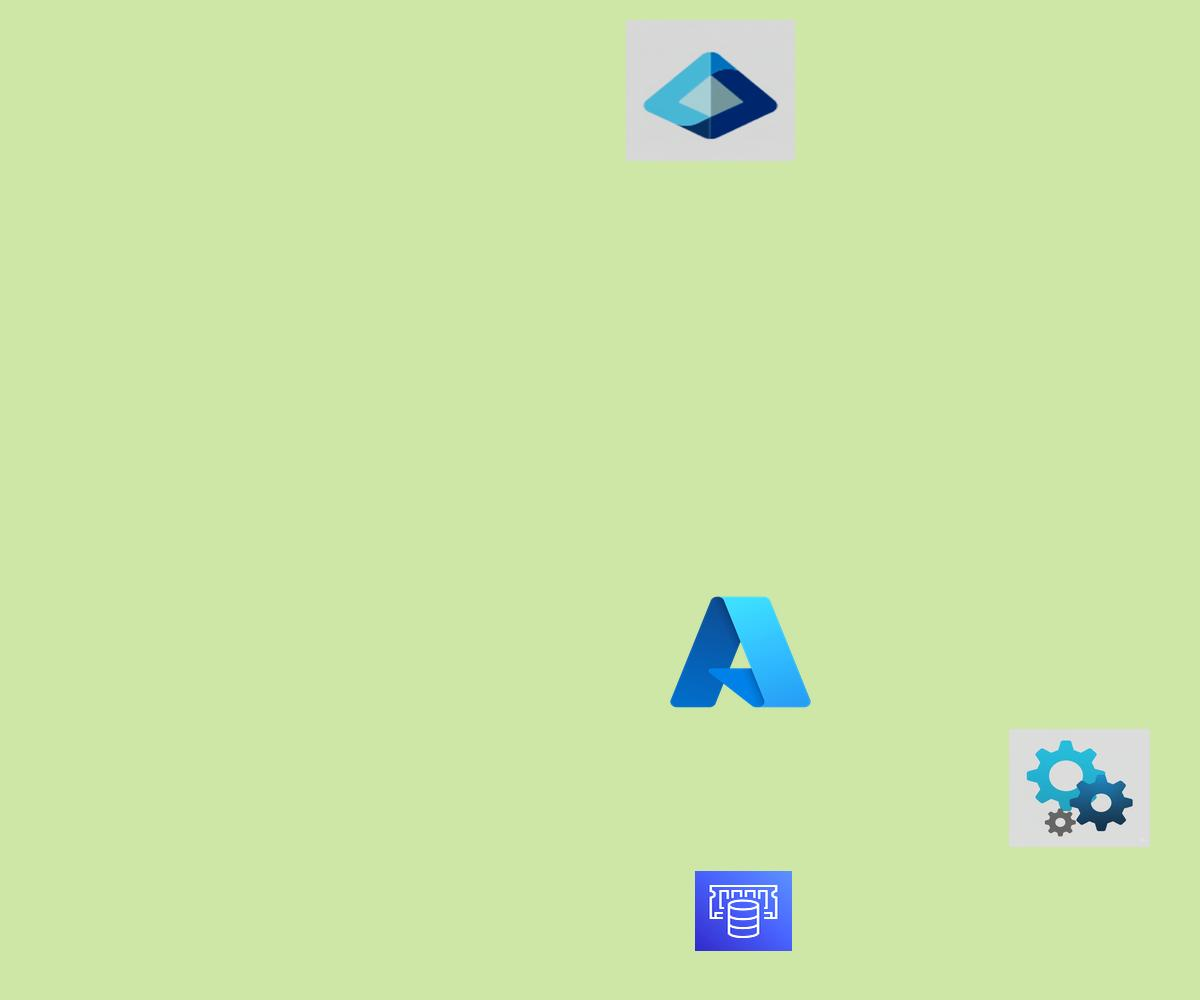AWS-ElastiCache: (695, 871, 792, 951)
Azure_api: (1009, 729, 1150, 847)
Azure_microsoft_entra: (626, 20, 795, 161)
Azure_services: (664, 588, 817, 716)
